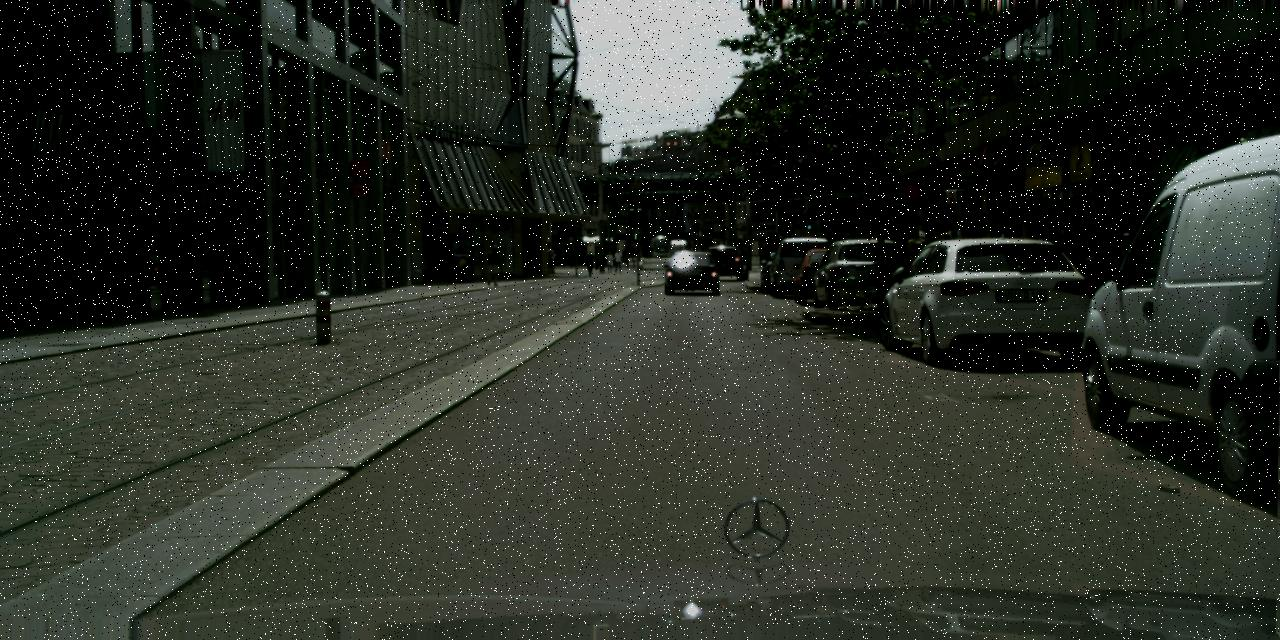ped: (934, 231, 958, 291), (905, 228, 927, 283), (484, 244, 502, 286), (584, 250, 594, 276), (612, 250, 622, 272), (604, 250, 614, 272), (546, 250, 554, 272), (546, 251, 554, 273), (593, 252, 599, 269), (636, 245, 642, 261), (629, 246, 635, 261)
